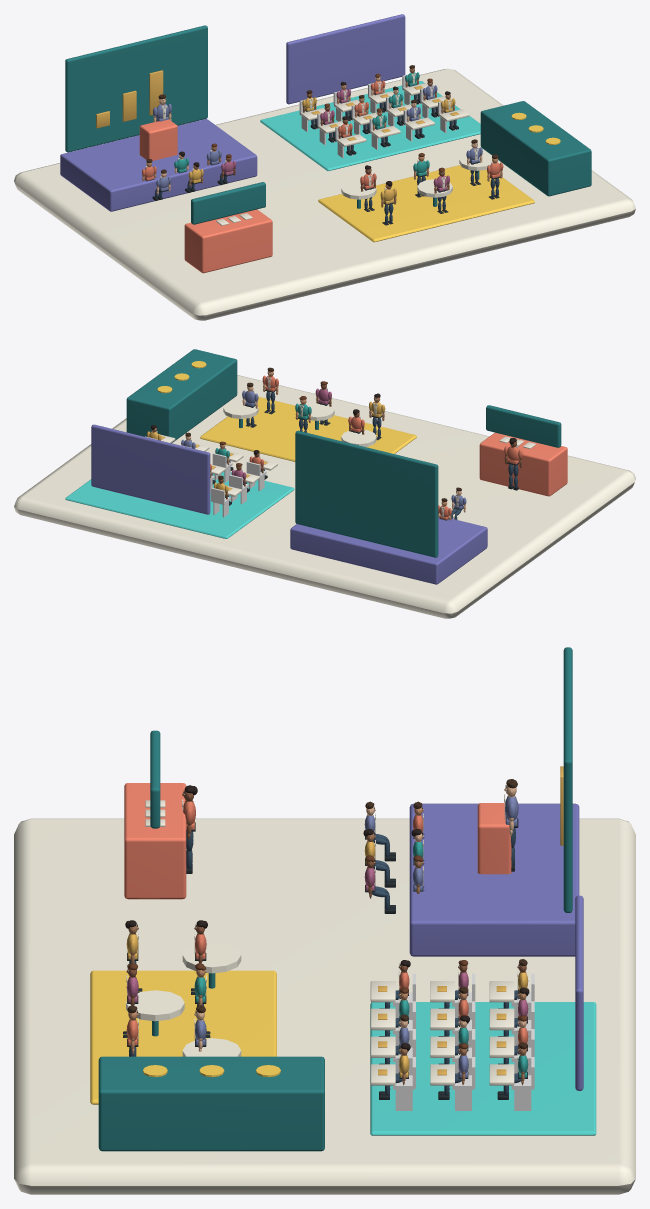
Rendered from conference.glb.
The picture shows the model from 3 angles, top to bottom: view 1: azimuth 30°, elevation 25°; view 2: azimuth 150°, elevation 25°; view 3: azimuth 270°, elevation 25°; orthographic projection. The views are drawn at different scales.
Visible parts, largest first — view 1: Conference foundation, Speakers screen, Speakers stage, Workshop board, Networking floor, Catering counter, Workshop floor, Registration desk, Registration sign, Speakers podium, Speakers chart.002, Networking table; view 2: Conference foundation, Speakers screen, Workshop board, Catering counter, Speakers stage, Workshop floor, Networking floor, Registration desk, Registration sign, Networking table.002, Networking table, WorkshopSeat_08 (+1 smaller); view 3: Conference foundation, Speakers stage, Catering counter, Workshop floor, Networking floor, Registration desk, Speakers screen, Speakers podium, Workshop board, Networking table.001, Networking table, Registration sign (+1 smaller).
Part boxes in pixels (bbox=[...]): Conference foundation: bbox=[14, 68, 635, 320]; Speakers screen: bbox=[65, 25, 207, 152]; Speakers stage: bbox=[60, 119, 257, 211]; Workshop board: bbox=[286, 14, 405, 104]; Networking floor: bbox=[318, 165, 534, 242]; Catering counter: bbox=[480, 101, 591, 196]; Workshop floor: bbox=[260, 81, 480, 170]; Registration desk: bbox=[184, 209, 272, 273]; Registration sign: bbox=[191, 182, 265, 224]; Speakers podium: bbox=[139, 119, 177, 160]; Speakers chart.002: bbox=[149, 70, 163, 115]; Networking table: bbox=[341, 181, 376, 199]; Conference foundation: bbox=[14, 375, 635, 618]; Speakers screen: bbox=[295, 430, 438, 557]; Workshop board: bbox=[91, 424, 210, 514]; Catering counter: bbox=[126, 349, 237, 443]; Speakers stage: bbox=[290, 517, 487, 584]; Workshop floor: bbox=[65, 471, 294, 538]; Networking floor: bbox=[200, 396, 416, 461]; Registration desk: bbox=[479, 432, 567, 496]; Registration sign: bbox=[486, 405, 561, 447]; Networking table.002: bbox=[223, 400, 258, 418]; Networking table: bbox=[341, 430, 376, 446]; WorkshopSeat_08: bbox=[211, 487, 230, 517]; Conference foundation: bbox=[14, 818, 635, 1194]; Speakers stage: bbox=[409, 803, 579, 956]; Catering counter: bbox=[98, 1056, 324, 1151]; Workshop floor: bbox=[370, 1002, 596, 1135]; Networking floor: bbox=[90, 970, 276, 1104]; Registration desk: bbox=[124, 783, 186, 899]; Speakers screen: bbox=[563, 647, 572, 912]; Speakers podium: bbox=[477, 803, 511, 874]; Workshop board: bbox=[575, 895, 583, 1090]; Networking table.001: bbox=[126, 990, 184, 1021]; Networking table: bbox=[182, 942, 241, 973]; Registration sign: bbox=[150, 730, 160, 828].
Size of the model in its own units: 15 by 4.4 by 11.
